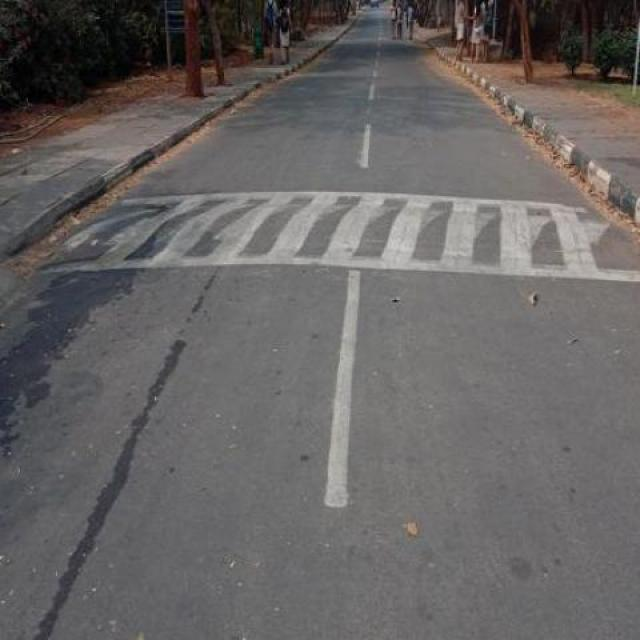Speed Bump: (44, 198, 639, 278)
